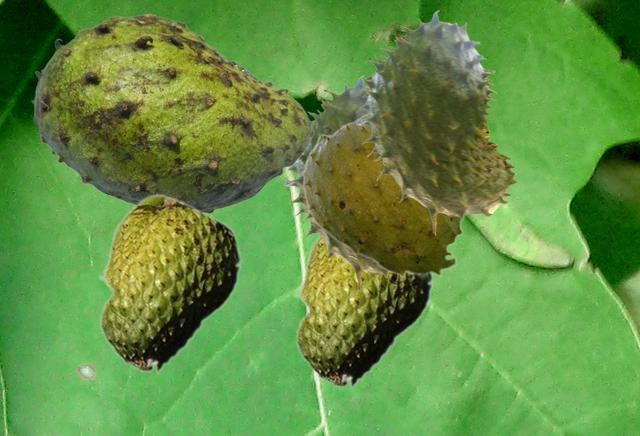guyabano: (31, 13, 313, 214), (356, 10, 516, 234), (299, 112, 467, 279), (97, 193, 241, 374), (284, 75, 388, 291), (293, 235, 433, 389)
